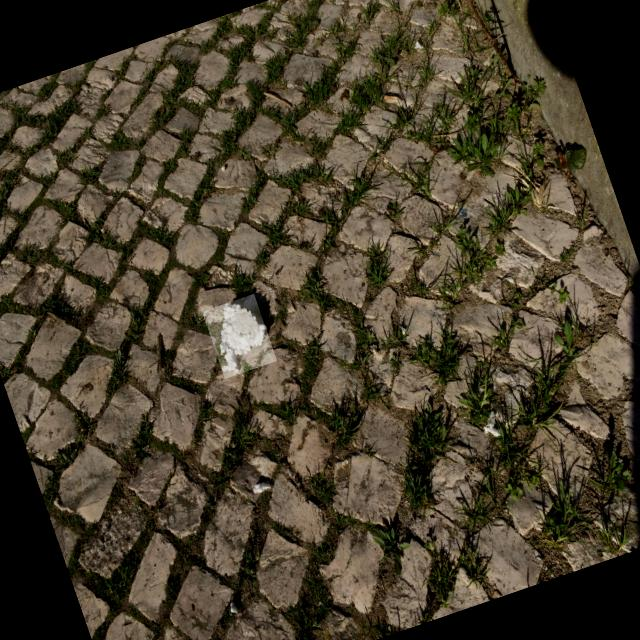Styrofoam piece: (220, 303, 266, 375), (253, 483, 271, 493), (484, 426, 500, 436), (230, 601, 238, 613), (370, 343, 377, 353)
